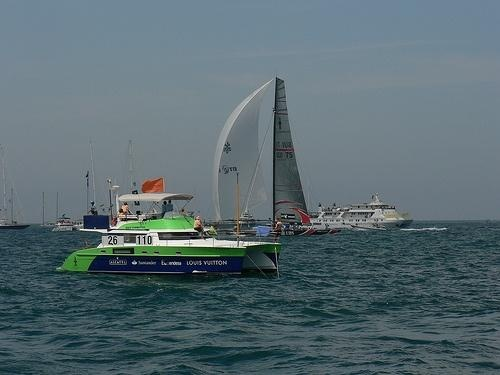boat: (210, 72, 334, 237), (58, 192, 281, 277), (314, 194, 413, 230)
